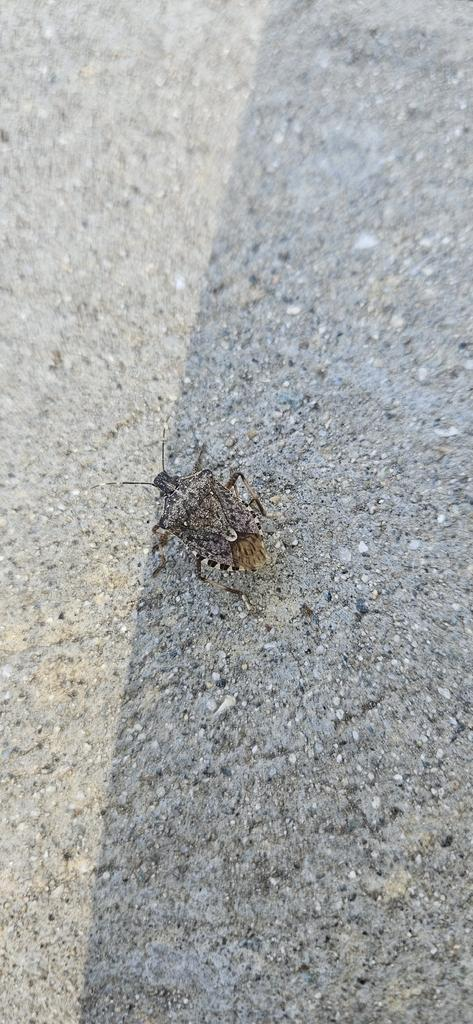stink_bugs: (49, 395, 324, 620)
